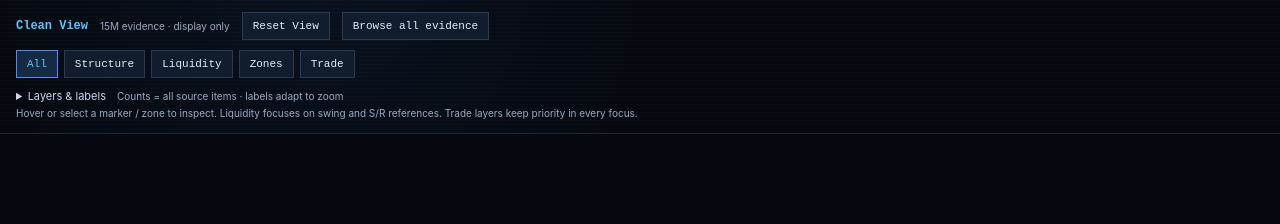
Test: Evidence presentation retains authority and complete data › missing evaluation data shows unknown counts rather than inventing zero evidence
The width and height of the screenshot is (1280, 224).
Click the heading "Layers & labels". click: (186, 96)
box: [28, 89, 343, 103]
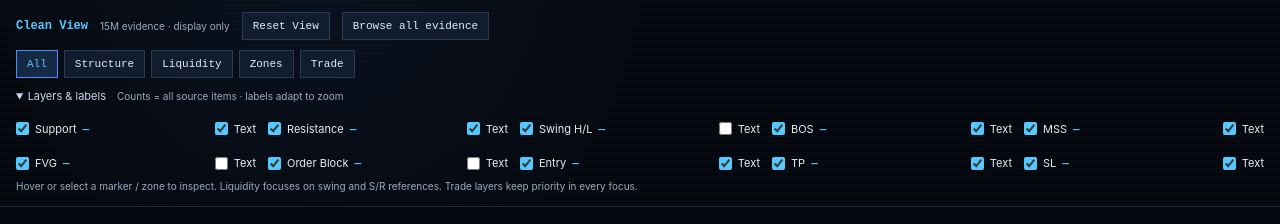
expect the button "Browse all evidence" is disabled: met, box [342, 12, 489, 40]
expect the label named "Swing H/L layer" shows "—": met, box [598, 122, 605, 134]
